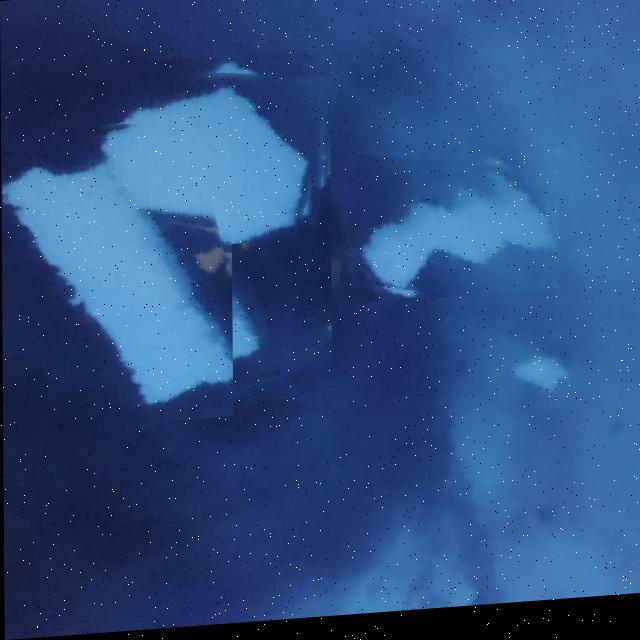litter: (2, 52, 332, 416), (2, 110, 233, 432), (94, 55, 332, 255), (342, 155, 559, 309), (499, 350, 594, 420)
